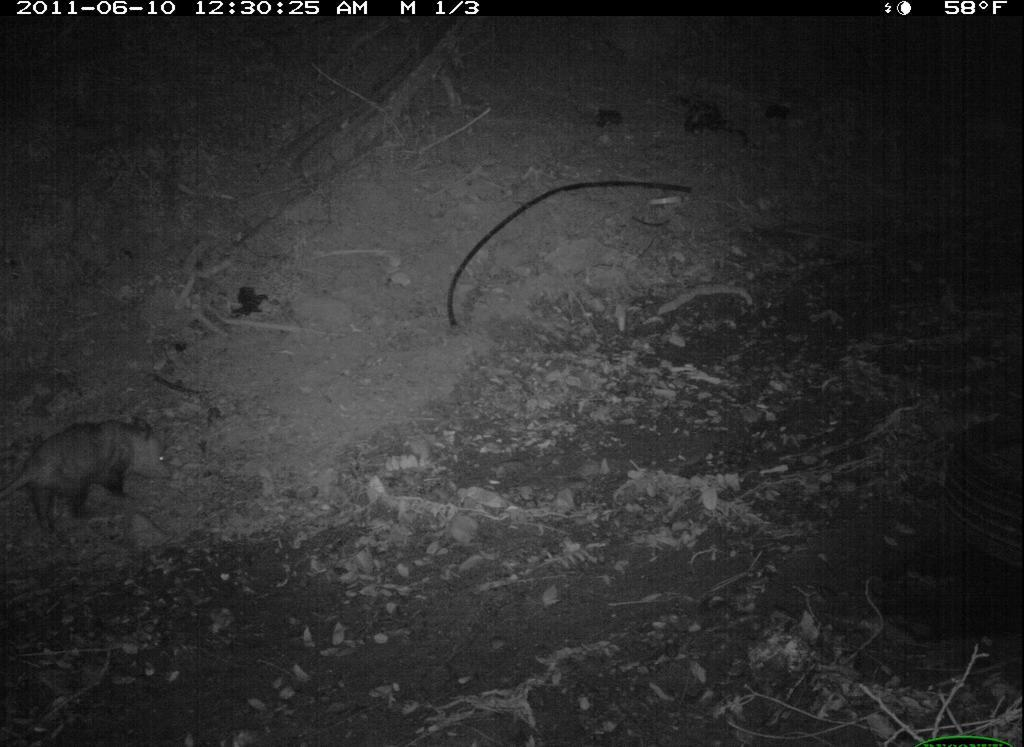opossum: (2, 417, 189, 530)
